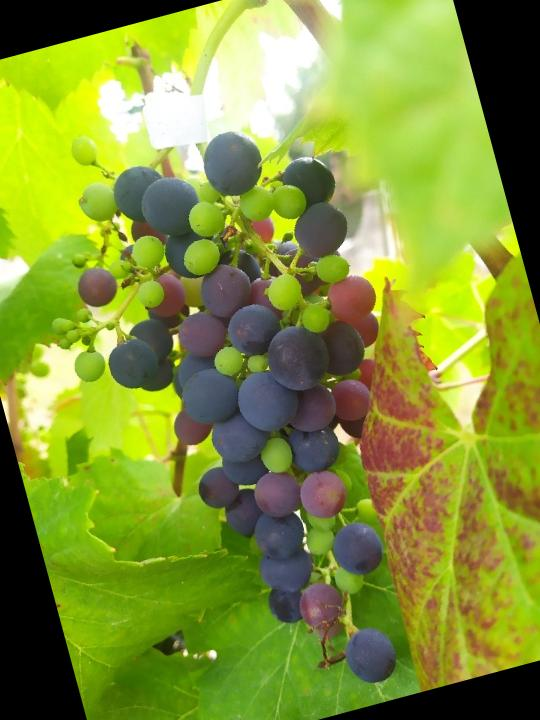grape: (2, 70, 474, 720)
